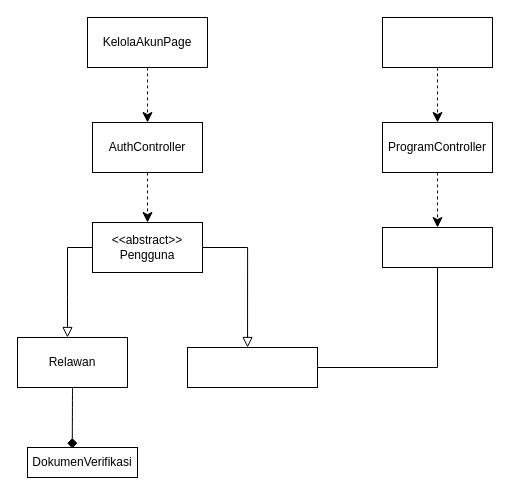
This 510x495 diagram has some shape labels left out. Here are the shapes that lost their labels. From the top down, the centre of each, then its label:
At (x=437, y=42): "KelolaProgramPage".
At (x=437, y=247): "Program".
At (x=252, y=367): "InisiatirProgram".
